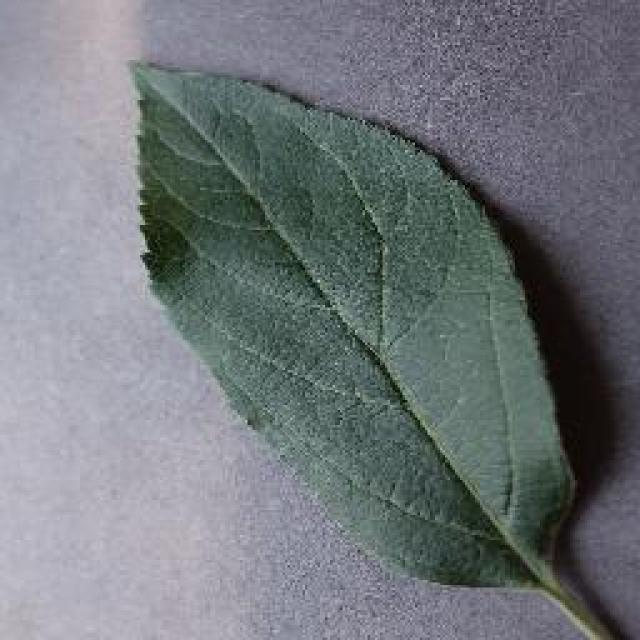apple scab disease: (125, 52, 637, 638)
